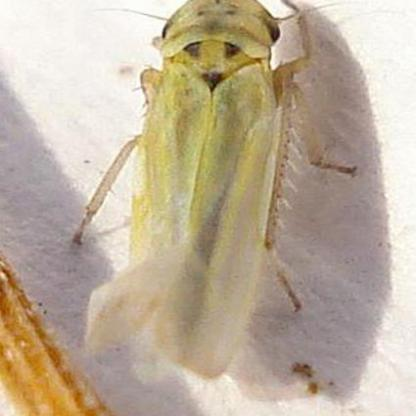green-leafhopper: (112, 0, 313, 358)
